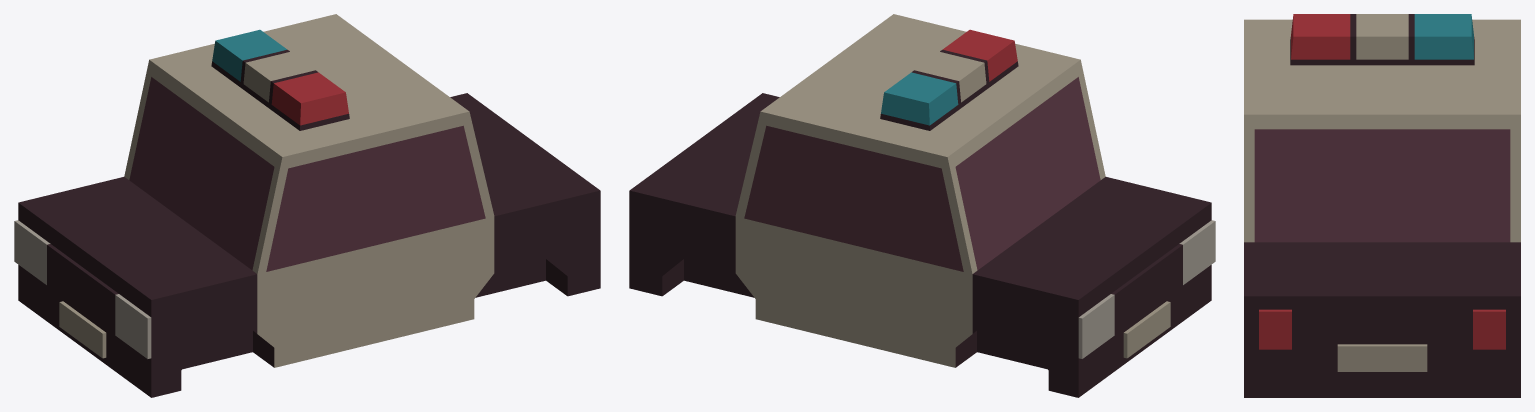
The model's file is Sedan_Police.fbx.
The picture shows the model from 3 angles, left to right: view 1: azimuth 30°, elevation 25°; view 2: azimuth 150°, elevation 25°; view 3: azimuth 270°, elevation 25°; orthographic projection. The views are drawn at different scales.
Visible parts, largest first — view 1: Sedan_Police, Sedan_PoliceLights; view 2: Sedan_Police, Sedan_PoliceLights; view 3: Sedan_Police, Sedan_PoliceLights.
Part boxes in pixels (x1=…): Sedan_Police: x1=18, y1=14, x2=600, y2=397; Sedan_PoliceLights: x1=14, y1=29, x2=348, y2=358; Sedan_Police: x1=629, y1=14, x2=1211, y2=397; Sedan_PoliceLights: x1=881, y1=29, x2=1215, y2=358; Sedan_Police: x1=1244, y1=14, x2=1520, y2=397; Sedan_PoliceLights: x1=1259, y1=14, x2=1505, y2=349.
Bounding box in the file's own units: 3.66 × 1.8 × 1.85.
